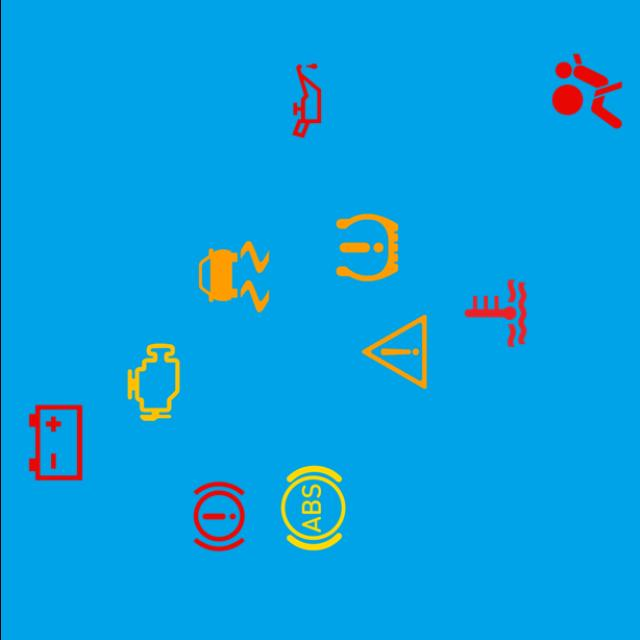Anti Lock Braking System: (266, 462, 358, 554)
Braking System Issue: (172, 470, 265, 563)
Charging System Issue: (8, 396, 101, 489)
Check Engine: (106, 336, 199, 428)
Electronic Stability Problem -ESP-: (186, 230, 280, 323)
Engine Overheating Warning Light: (448, 266, 541, 360)
Low Engine Oil Warning Light: (260, 54, 352, 147)
Low Tire Pressure Warning Light: (320, 201, 413, 294)
Master warning light: (347, 306, 440, 398)
SRS-Airbag: (540, 44, 633, 138)
